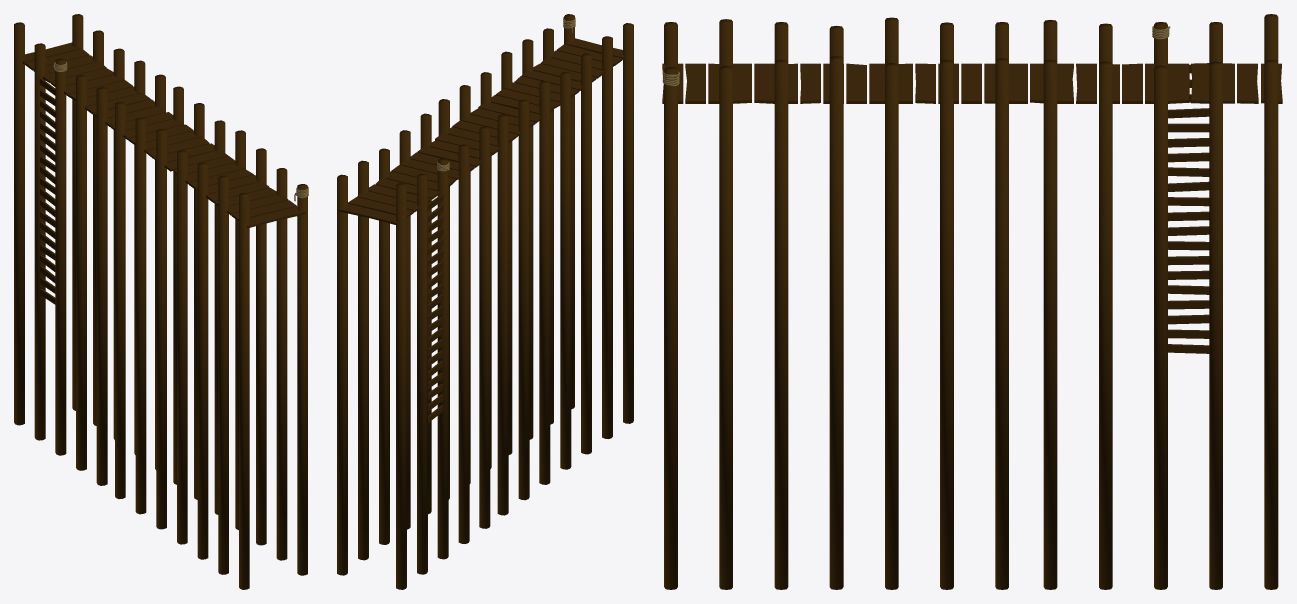
File: WoodenPier.fbx
3 renders of one model, left to right at view 1: azimuth 30°, elevation 25°; view 2: azimuth 150°, elevation 25°; view 3: azimuth 270°, elevation 25°, orthographic. The views are drawn at different scales.
Parts seen in each view (by area): view 1: WoodenPier_Poles, WoodenPier_Planks, WoodenPier_Ladder; view 2: WoodenPier_Poles, WoodenPier_Planks, WoodenPier_Ladder; view 3: WoodenPier_Poles, WoodenPier_Planks, WoodenPier_Ladder.
Part boxes in pixels (bbox=[...]): WoodenPier_Poles: bbox=[14, 14, 307, 589]; WoodenPier_Planks: bbox=[22, 42, 305, 228]; WoodenPier_Ladder: bbox=[39, 78, 55, 304]; WoodenPier_Poles: bbox=[337, 14, 633, 589]; WoodenPier_Planks: bbox=[338, 38, 625, 225]; WoodenPier_Ladder: bbox=[428, 194, 443, 422]; WoodenPier_Poles: bbox=[664, 14, 1278, 589]; WoodenPier_Planks: bbox=[662, 63, 1282, 103]; WoodenPier_Ladder: bbox=[1168, 64, 1209, 353].
Bounding box in the file's own units: 6.86 × 37.45 × 39.57.
